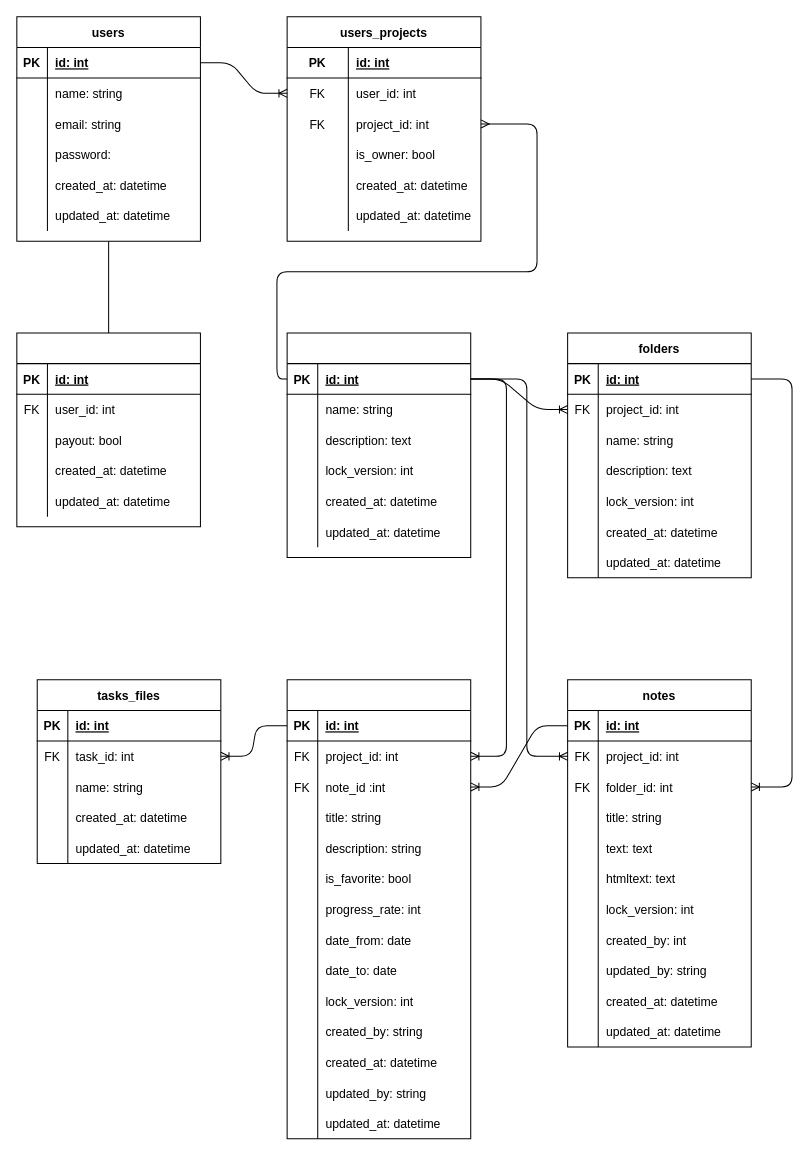
The diagram is 809 pixels wide and 1156 high, and some of its shapes have lost their labels. The box of each missing label's shape, as (x1, y1, x2, y2) in pixels:
projects: (286, 332, 471, 557)
tasks: (286, 679, 471, 1139)
user_samples: (16, 332, 200, 527)
